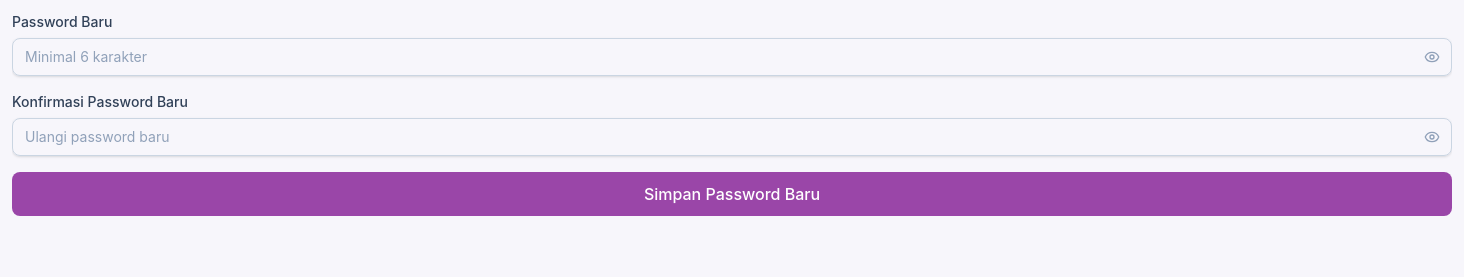
ResetPasswordForm › menampilkan pesan wajib isi kalau disubmit kosong
Step 1. Click the button "Simpan Password Baru" → (732, 194), box [12,172,1452,216]
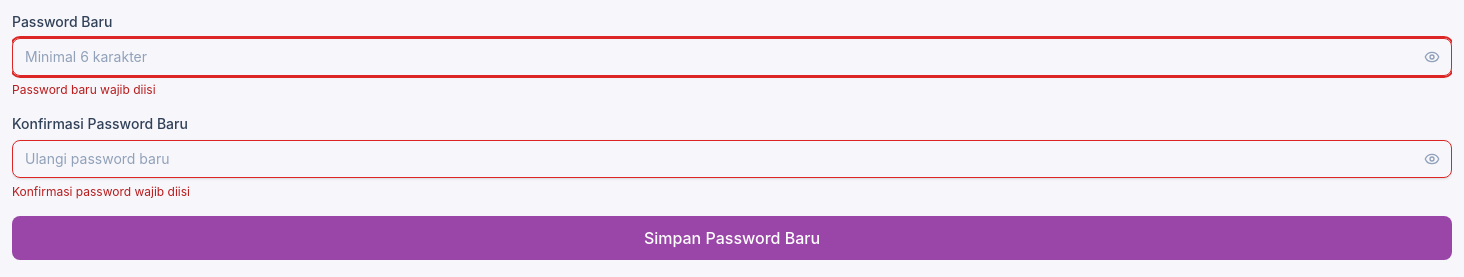
Now the text "Password baru wajib diisi" is shown, box [12,82,156,97]
Now the text "Konfirmasi password wajib diisi" is shown, box [12,184,190,199]
